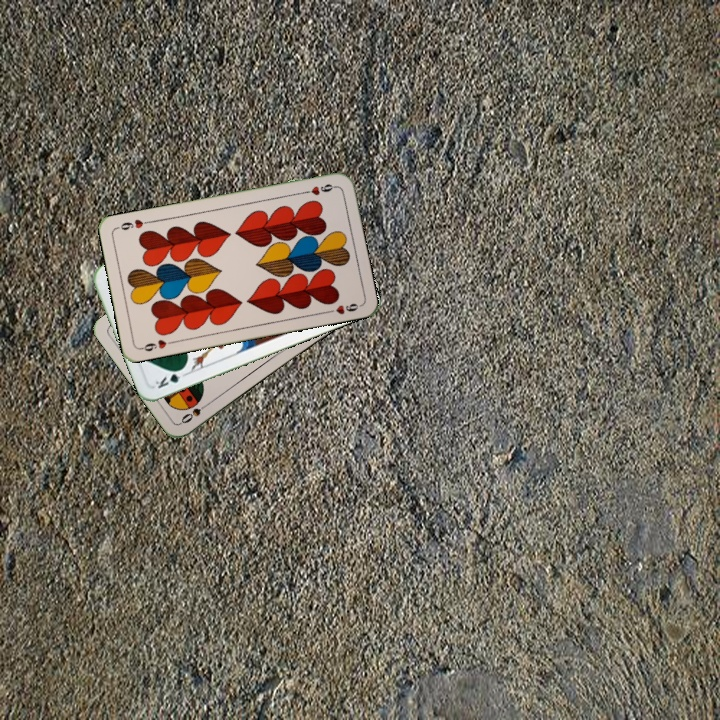GK: (151, 364, 190, 391)
H9: (137, 335, 177, 354), (298, 180, 339, 198)
SO: (177, 398, 213, 427)
